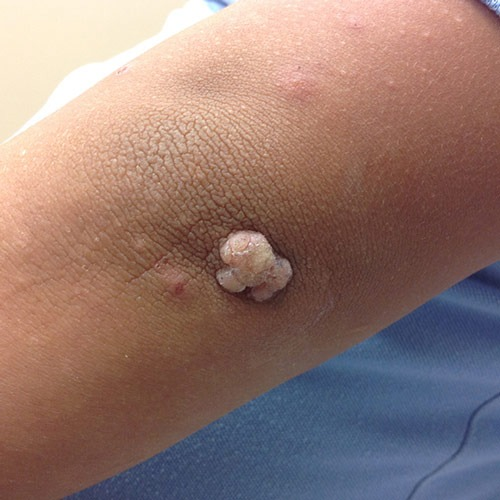Warts: (181, 201, 327, 324)
